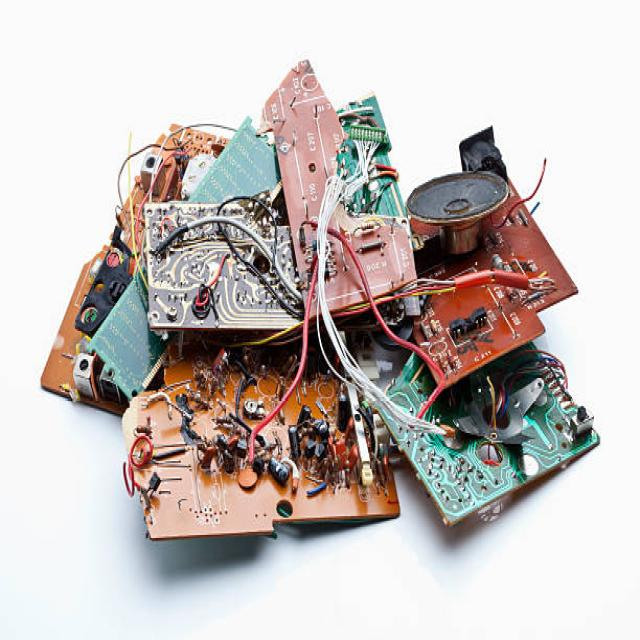metal: (59, 105, 598, 549)
